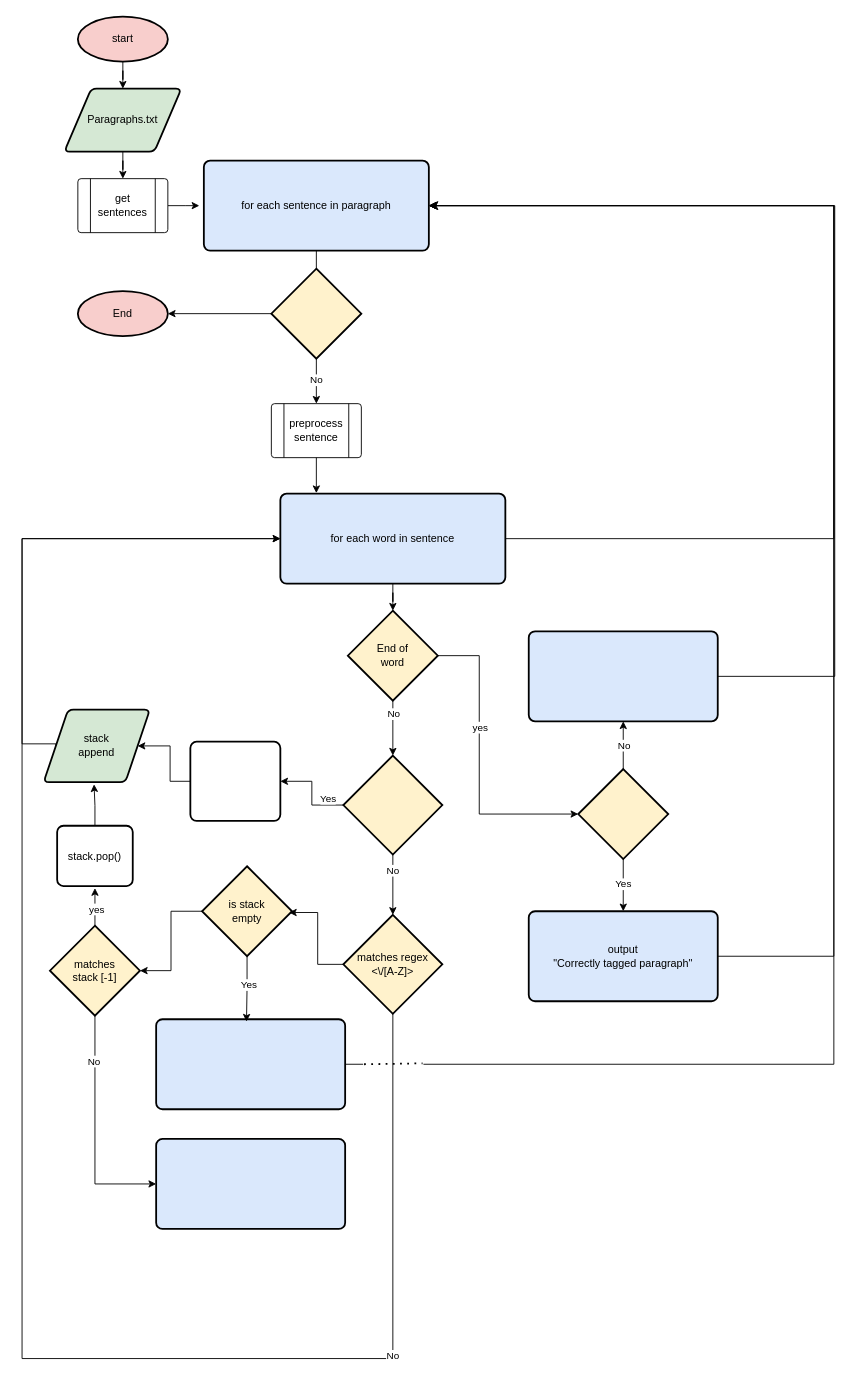
Image size: 859x1382. Some labels were removed from this diagram. Here are the shapes that lost their labels. From the top down, the box of each, then its label:
(270, 267, 362, 359): End of sentence
(527, 630, 718, 722): output "expected last item of stack closed but found #"
(189, 740, 281, 821): Append to stack
(342, 754, 443, 855): matches regex r"<[A-Z]>"
(577, 768, 669, 860): is queue empty
(155, 1018, 346, 1110): output "expected # but found first item of queue"
(155, 1138, 346, 1229): output "expected last item of stack with closing tag, this instead"
